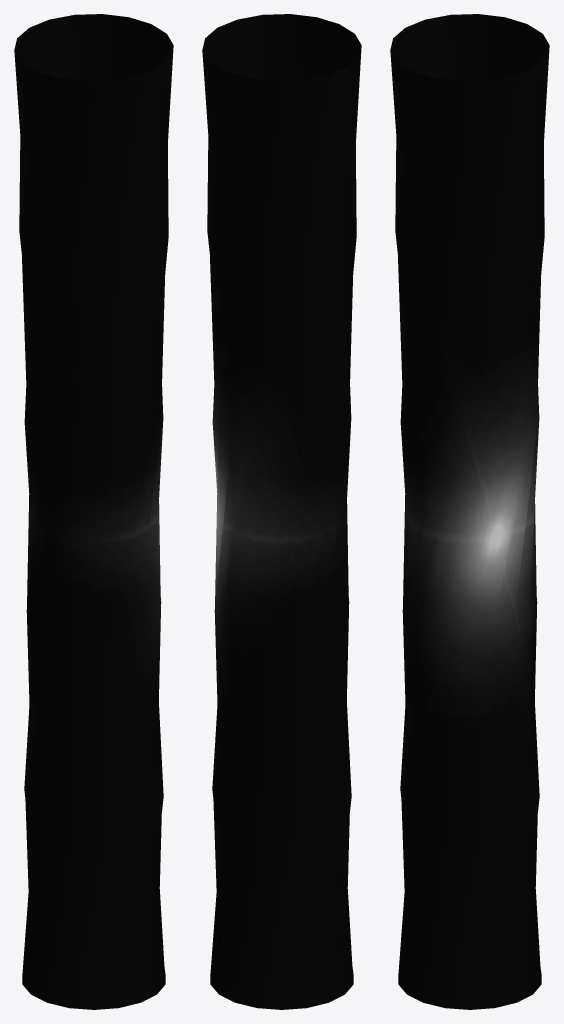
Rendered from 0121_RiShiNaiKeLuoZiMa_SkillB_Mesh_01.glb.
3 renders of one model, left to right at view 1: azimuth 30°, elevation 25°; view 2: azimuth 150°, elevation 25°; view 3: azimuth 270°, elevation 25°, orthographic.
Bounding box in the file's own units: 0.3401 × 2.2 × 0.341.
1 material, 1 textured.
